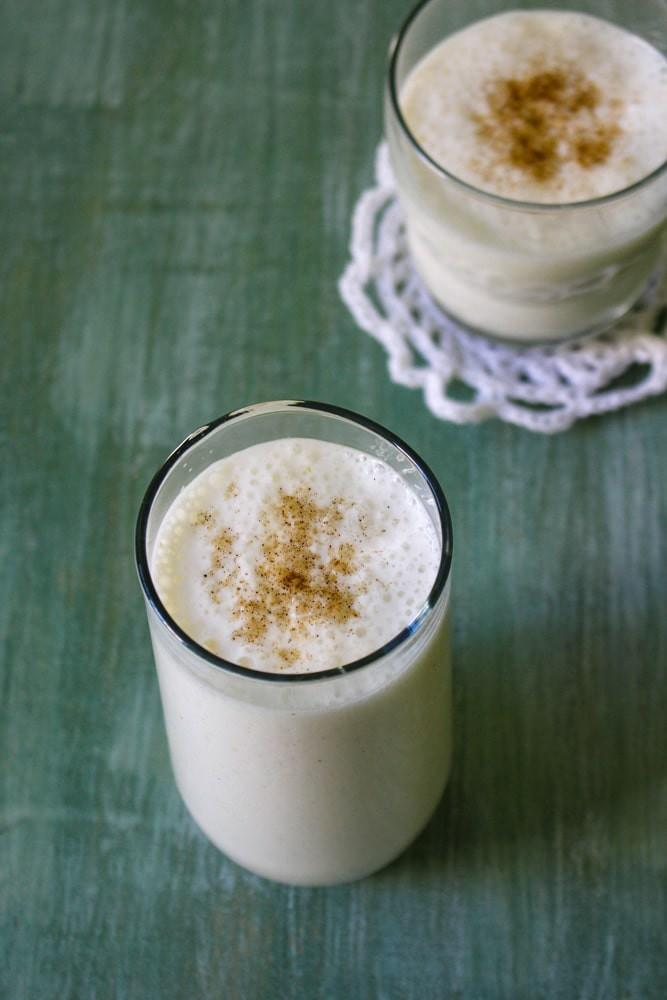Lassi: (148, 438, 453, 886), (390, 9, 667, 342)
